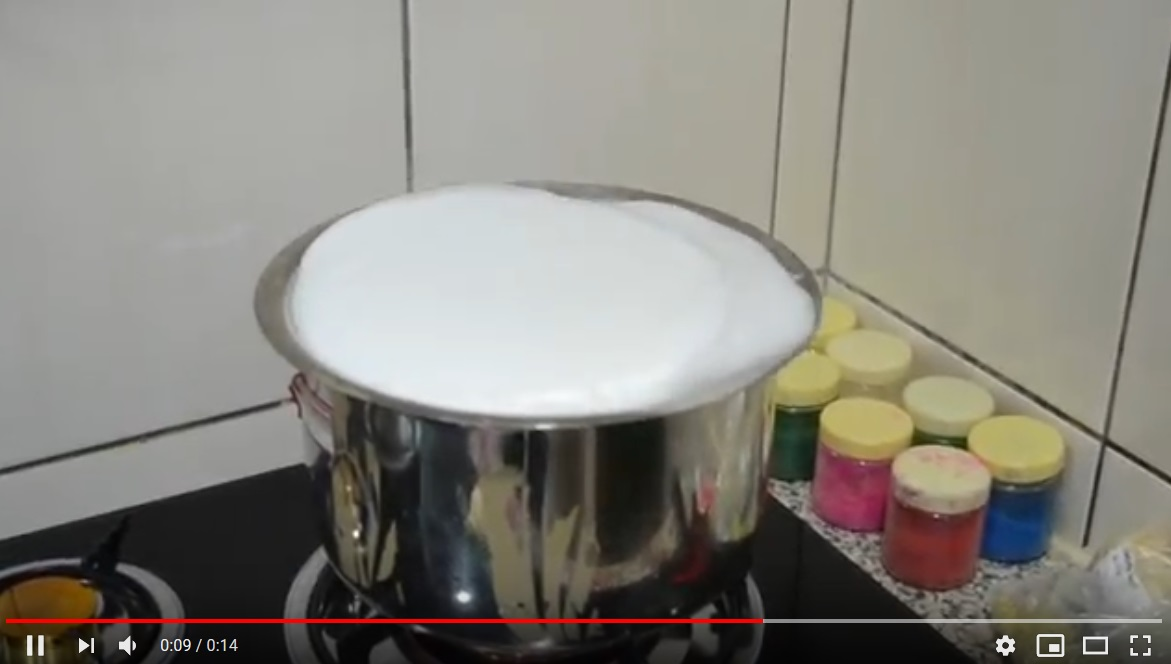Boiled: (252, 173, 822, 594)
